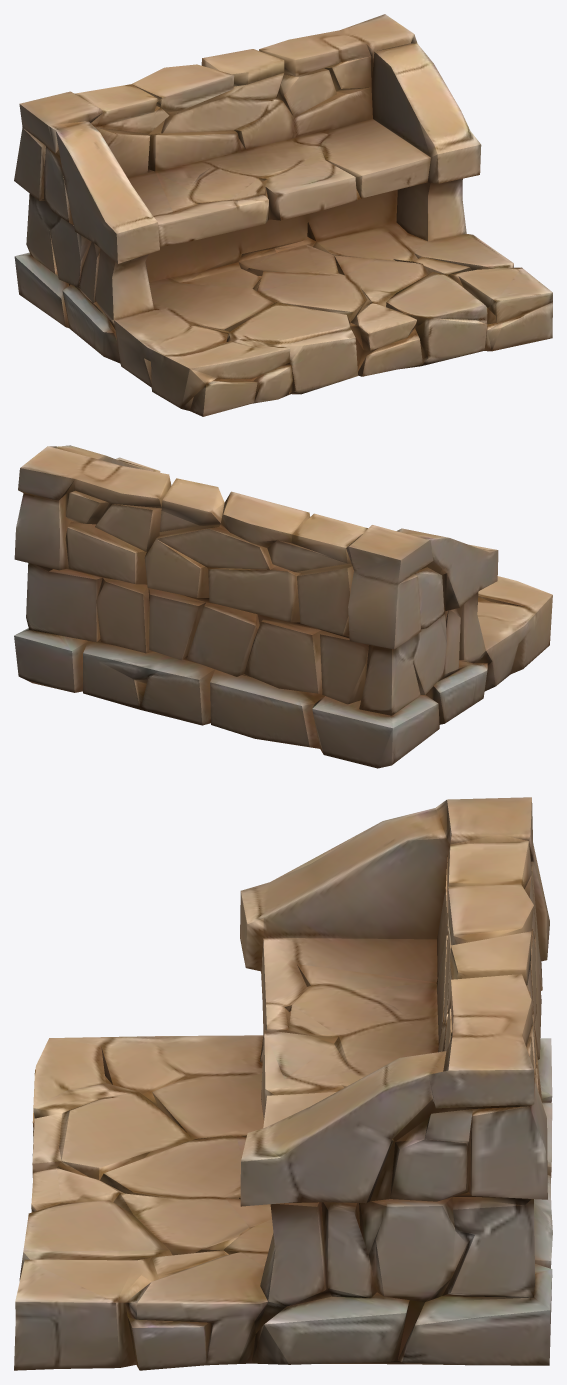
File: m2GripLedge.glb
The picture shows the model from 3 angles, top to bottom: view 1: azimuth 30°, elevation 25°; view 2: azimuth 150°, elevation 25°; view 3: azimuth 270°, elevation 25°; orthographic projection. The views are drawn at different scales.
Visible parts, largest first — view 1: model; view 2: model; view 3: model.
Part boxes in pixels (x1=…): model: x1=14, y1=14, x2=552, y2=416; model: x1=14, y1=445, x2=552, y2=768; model: x1=14, y1=797, x2=552, y2=1370.
Bounding box in the file's own units: 1.89 × 0.9956 × 1.57.
Materials: 1 (1 with a texture image).
